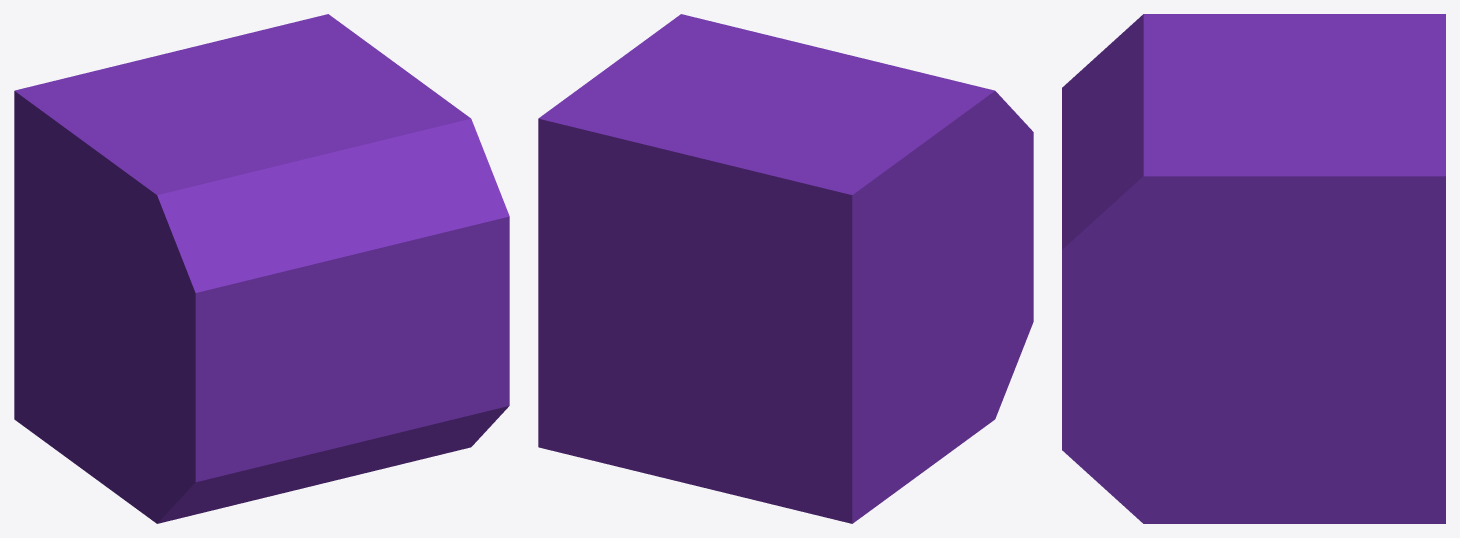
Rendered from glove.glb.
3 renders of one model, left to right at view 1: azimuth 30°, elevation 25°; view 2: azimuth 150°, elevation 25°; view 3: azimuth 270°, elevation 25°, orthographic. The views are drawn at different scales.
Visible parts, largest first — view 1: Cube; view 2: Cube; view 3: Cube.
Part boxes in pixels (<box>): Cube: <box>14,14,509,523</box>; Cube: <box>538,14,1033,523</box>; Cube: <box>1062,14,1445,523</box>.
Bounding box in the file's own units: 0.2989 × 0.2989 × 0.2989.
1 material, 1 textured.
